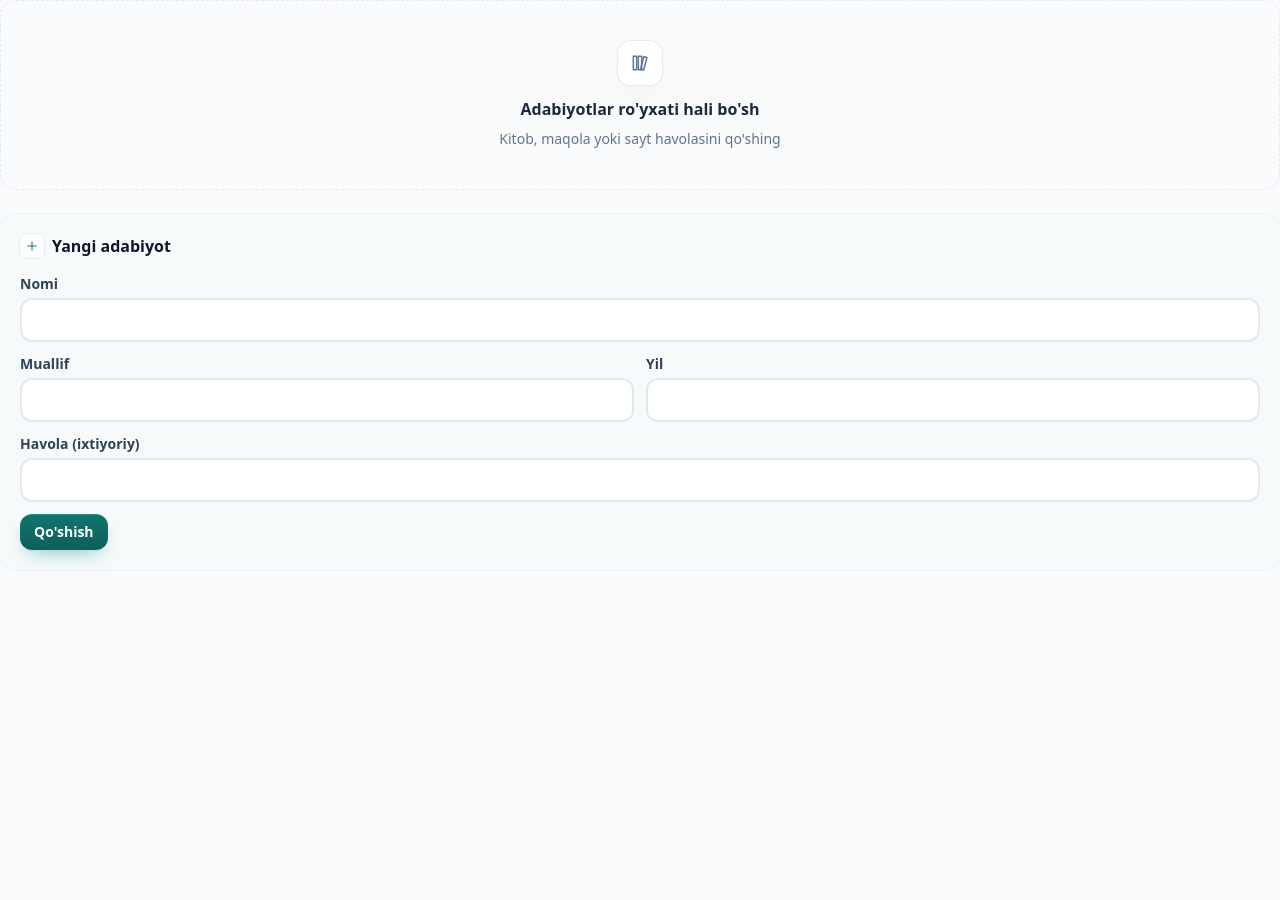
noto'g'ri havola va yil xato beradi
Type "Kitob" into the field labelled "Nomi" at [640, 320], box [20,298,1260,342]
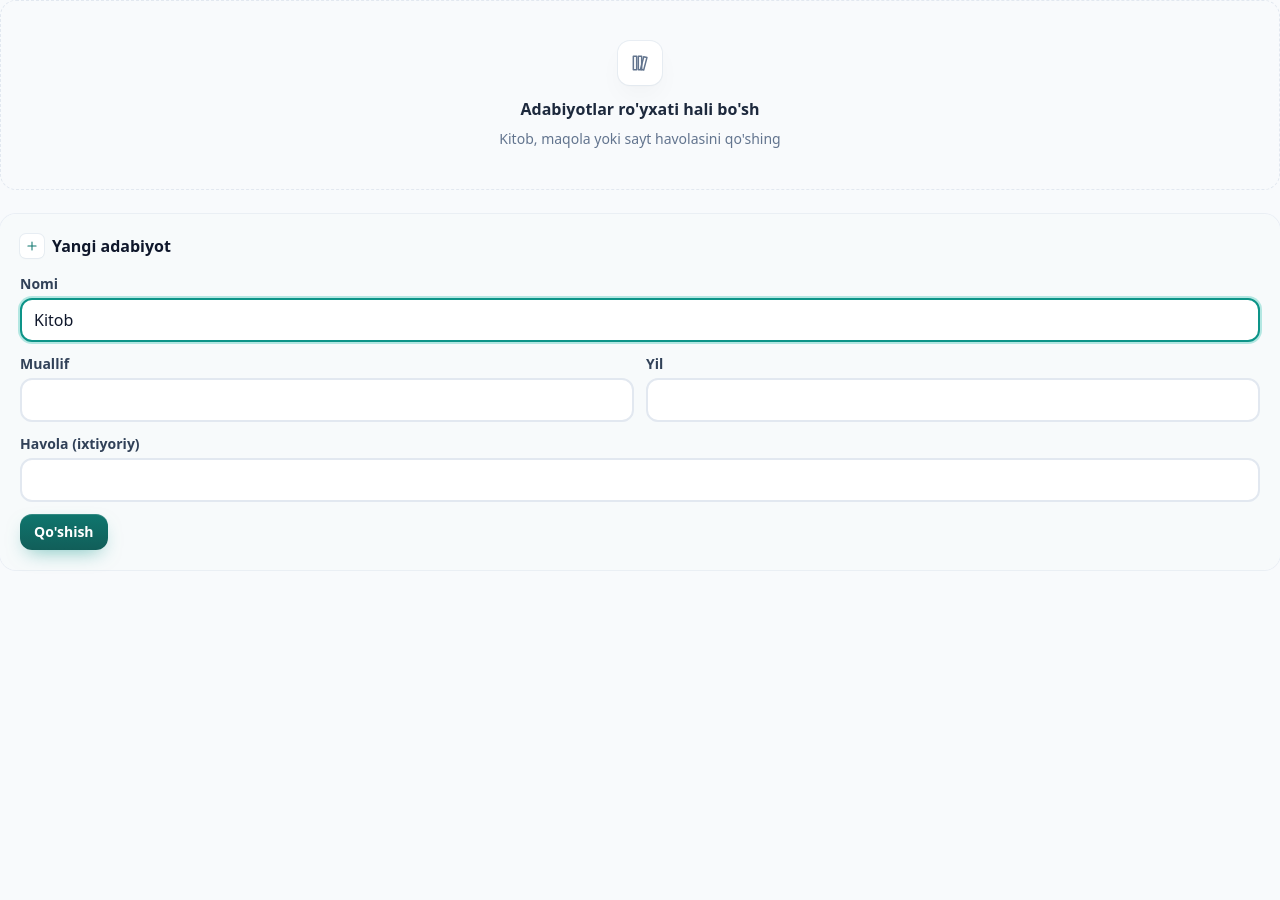
Type "20" into the field labelled "Yil" at [953, 400], box [646,378,1260,422]
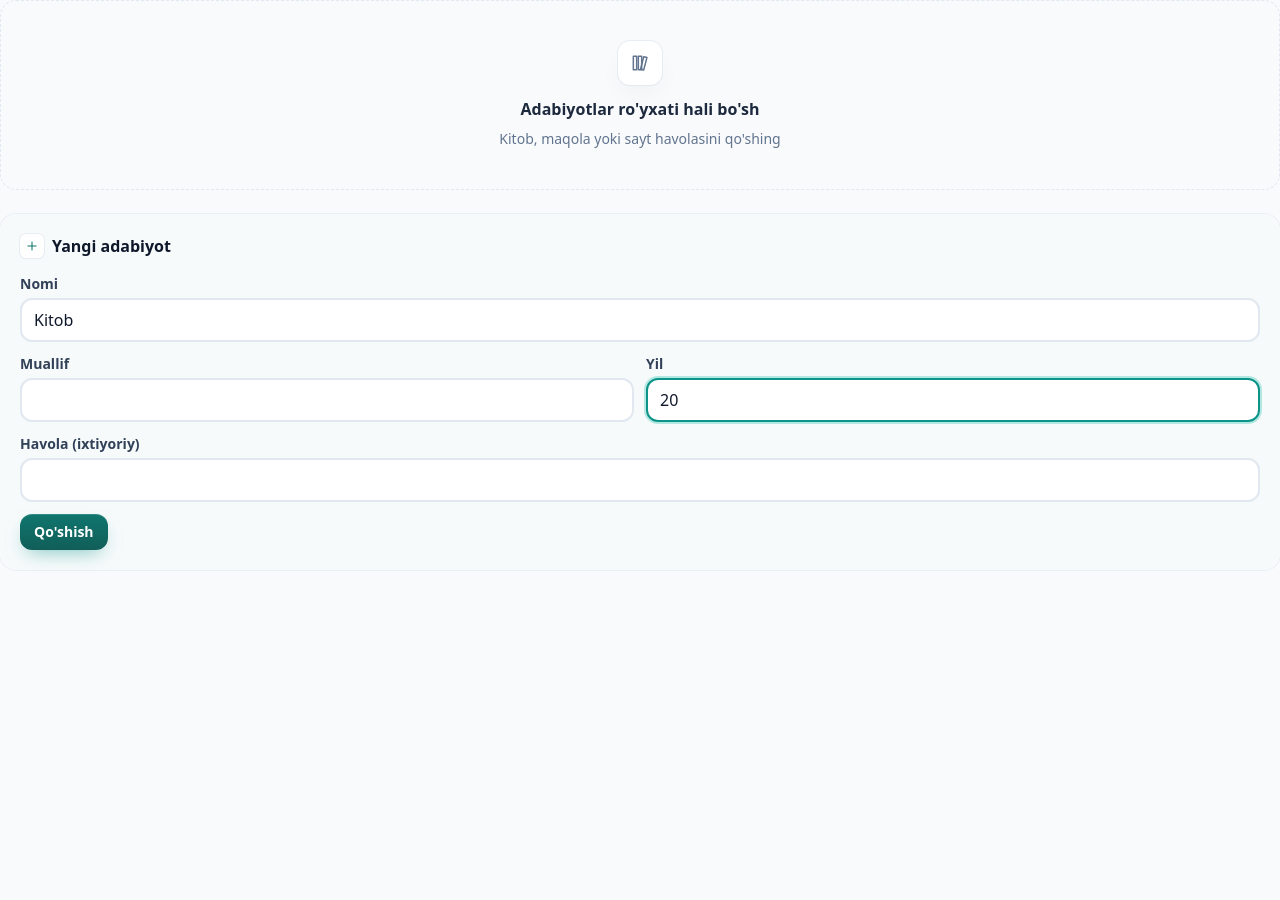
Type "kitob.uz" into the field labelled "Havola (ixtiyoriy)" at [640, 480], box [20,458,1260,502]
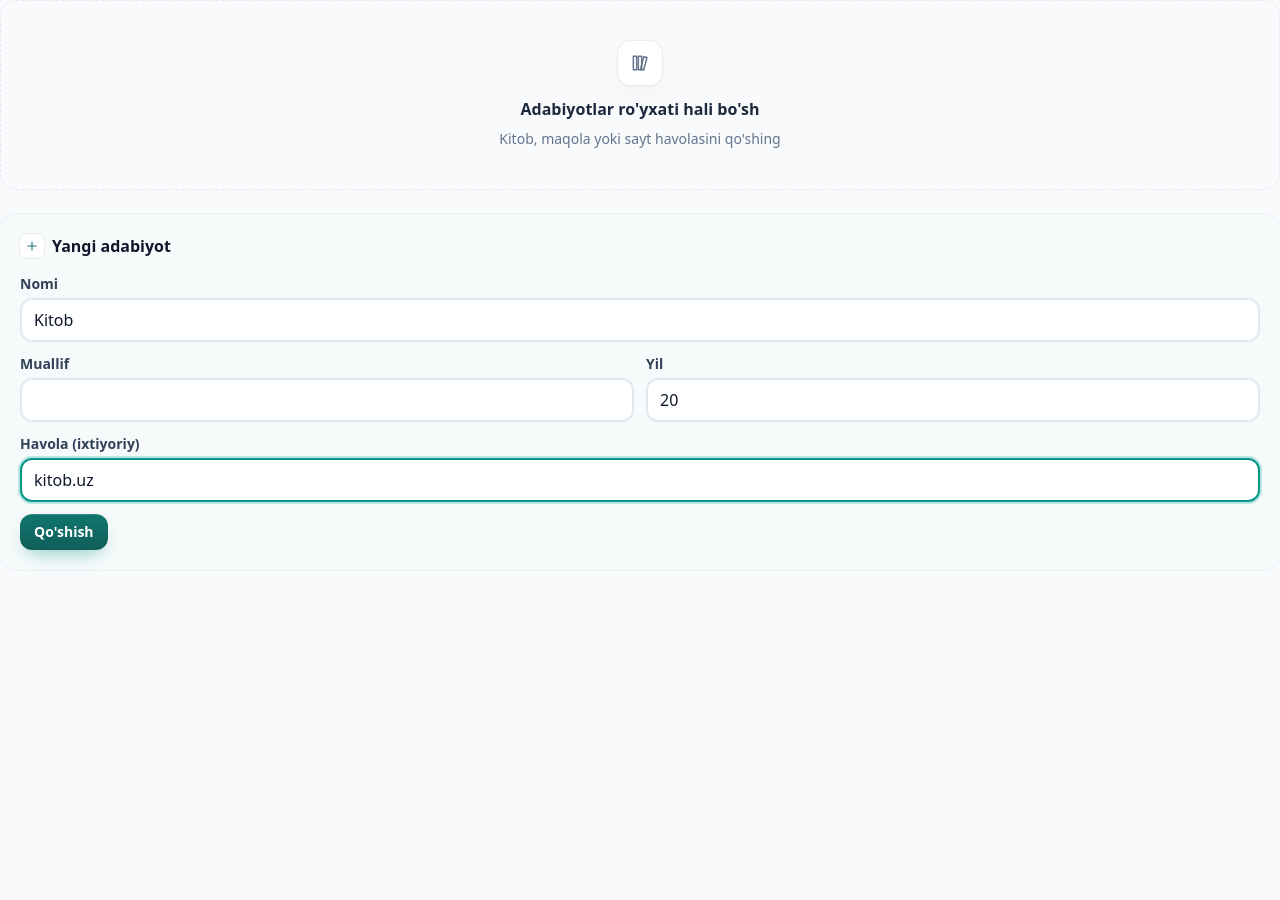
Click the button "Qo'shish" at [64, 532], box [20,514,108,550]
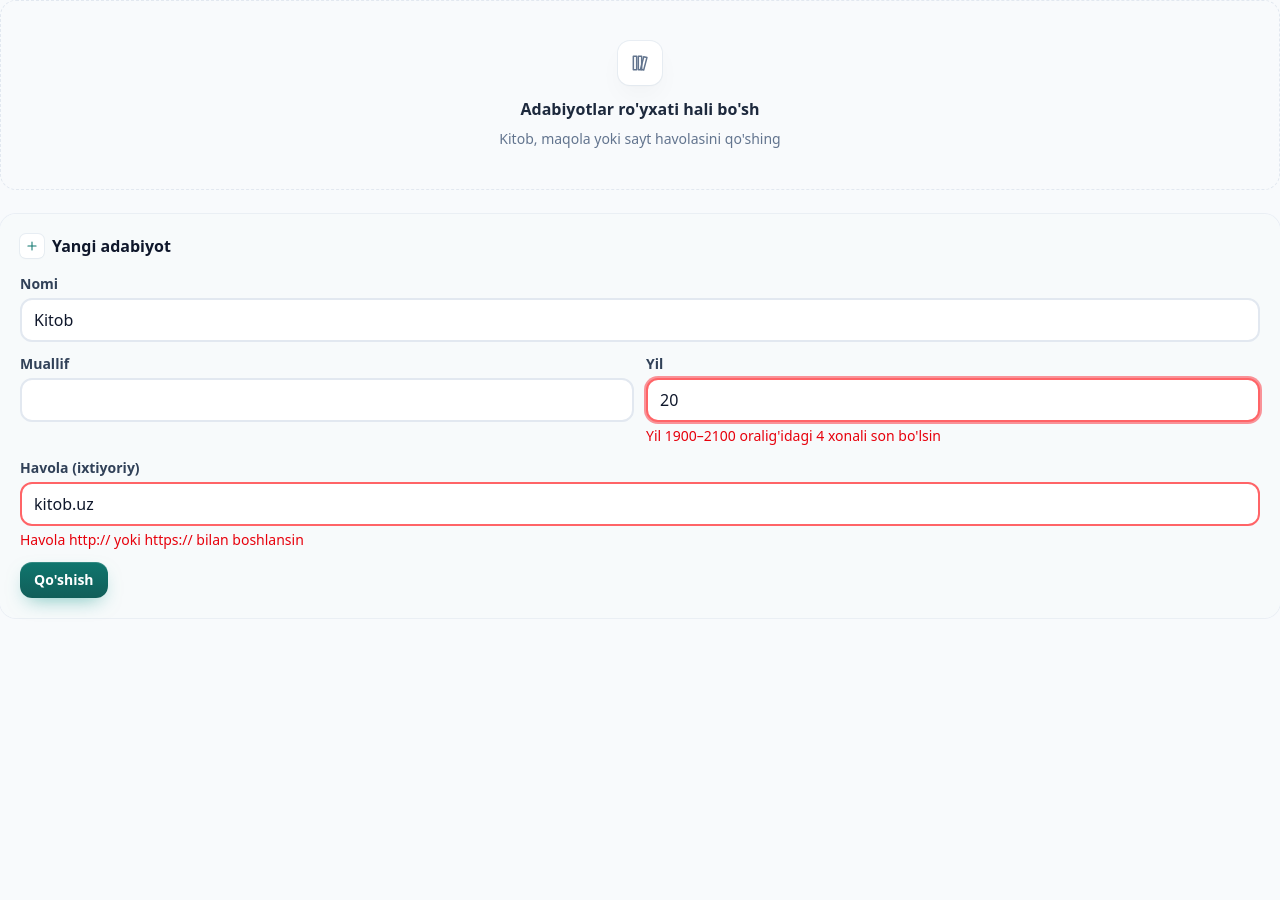
Now the text "Yil 1900–2100 oralig'idagi 4 xonali son bo'lsin" is shown, box [646,426,941,445]
Now the text "Havola http:// yoki https:// bilan boshlansin" is shown, box [20,530,304,549]
